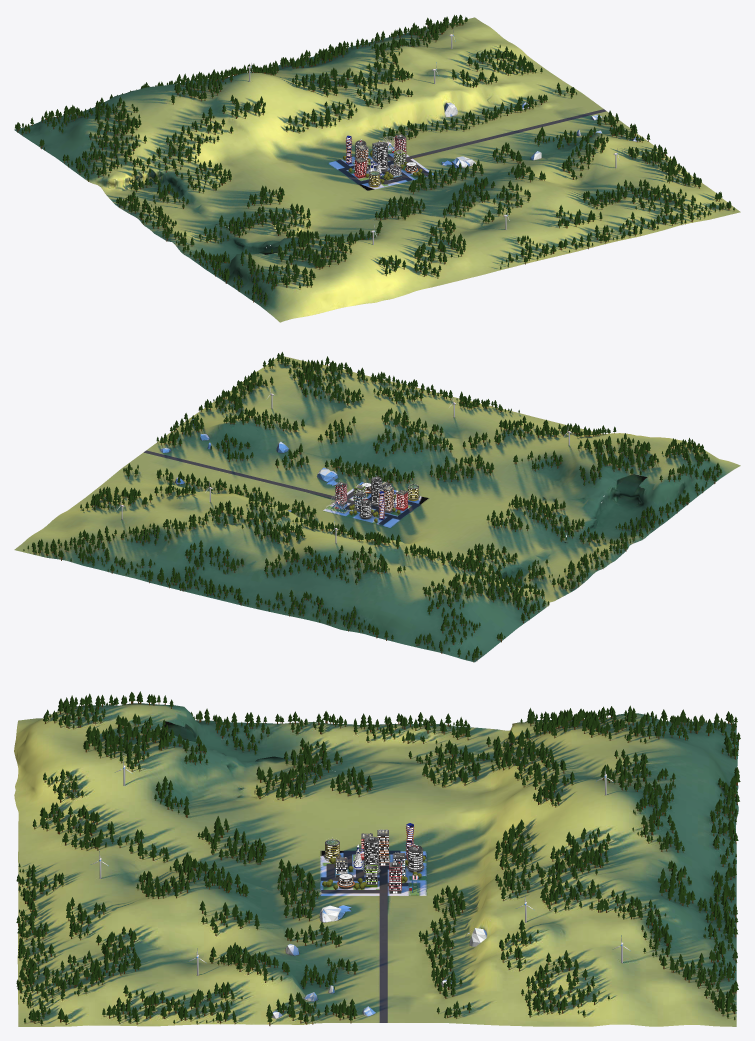
Rendered from isometric-cityscape13-transformed.glb.
The picture shows the model from 3 angles, top to bottom: view 1: azimuth 30°, elevation 25°; view 2: azimuth 150°, elevation 25°; view 3: azimuth 270°, elevation 25°; orthographic projection. The views are drawn at different scales.
Visible parts, largest first — view 1: Floor, PineTrees, CityBase.001; view 2: Floor, PineTrees, CityBase.001; view 3: Floor, PineTrees, CityBase.001.
Part boxes in pixels (box(x1,y1,x2,y2)): Floor: box(14, 17, 740, 322); PineTrees: box(15, 14, 734, 305); CityBase.001: box(336, 102, 640, 184); Floor: box(14, 356, 740, 662); PineTrees: box(23, 352, 722, 662); CityBase.001: box(144, 419, 420, 524); Floor: box(14, 703, 738, 1026); PineTrees: box(16, 691, 740, 1025); CityBase.001: box(271, 850, 486, 1022).
Size of the model in its own units: 67.75 by 9.32 by 67.76.
31 materials, 6 textured.
